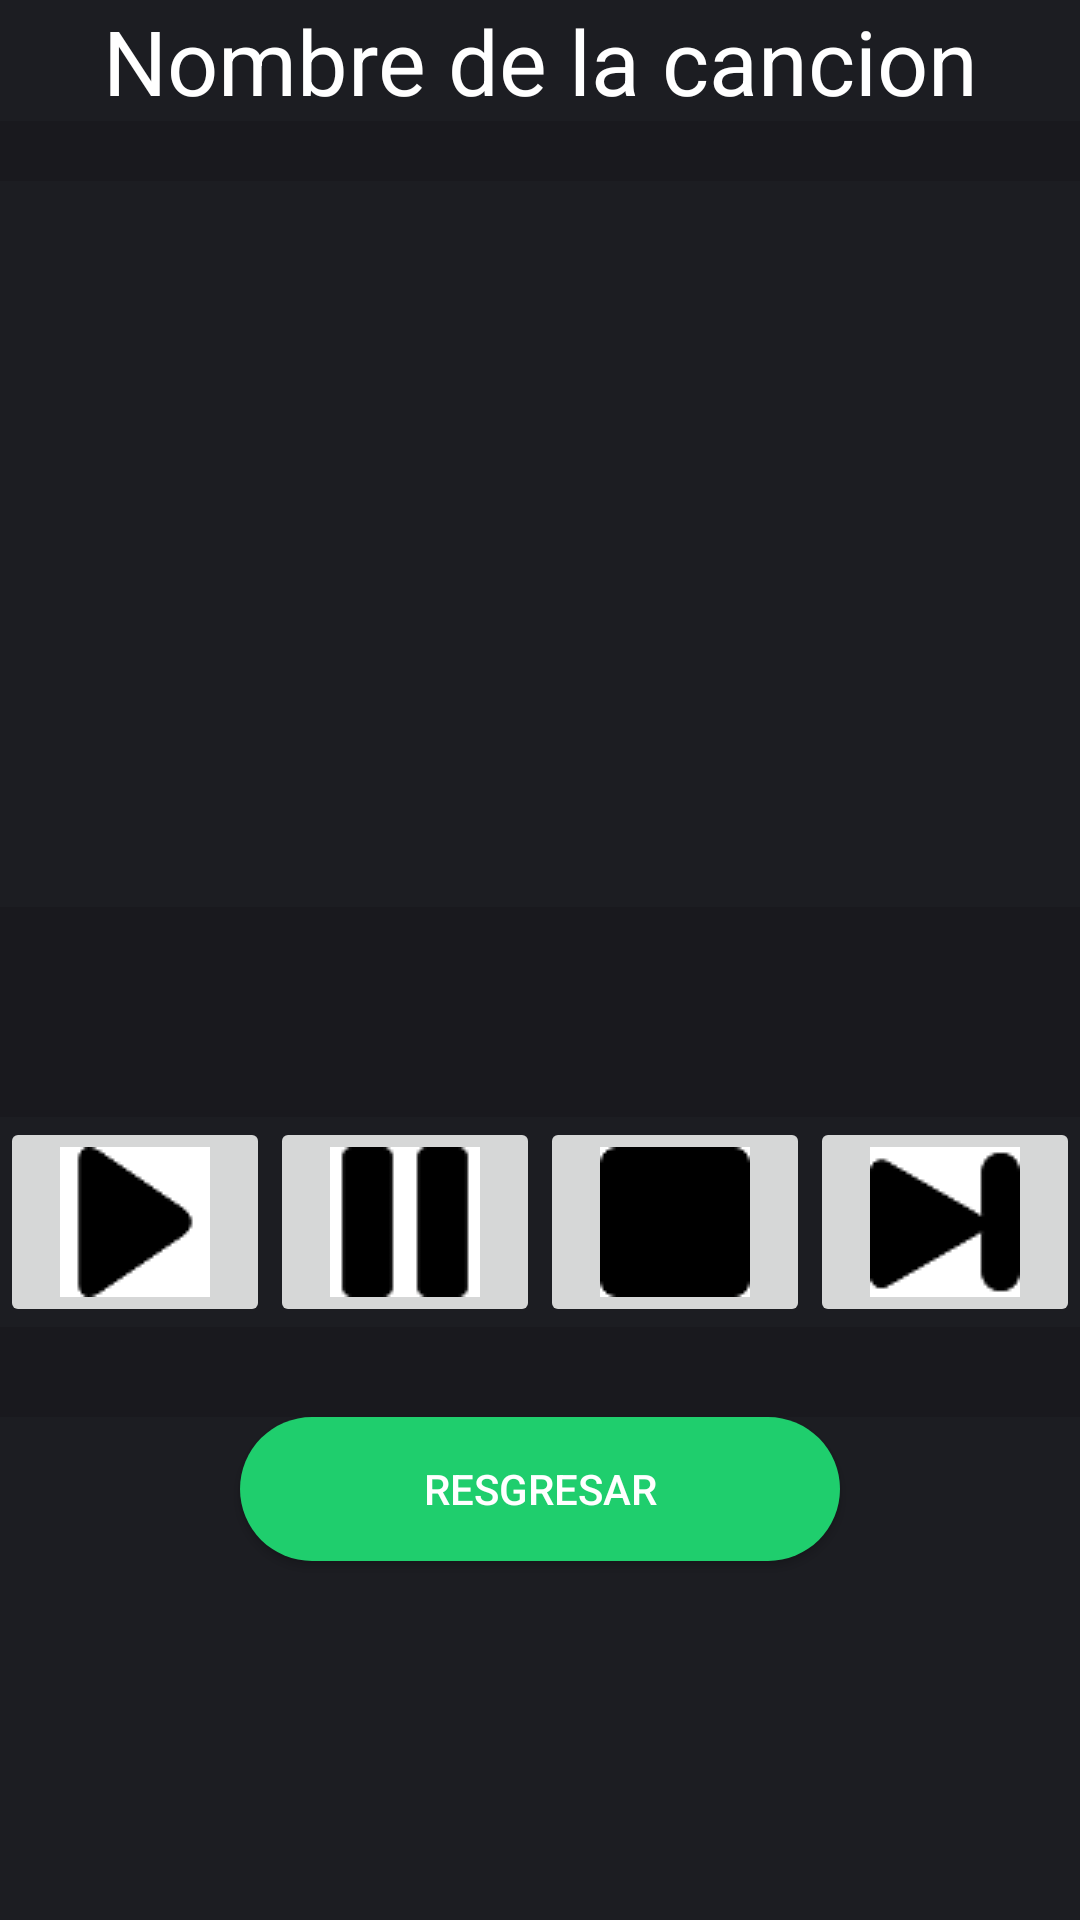

Named icons in this screenshot (1080 x 1920) and their centers, (x,y):
detener: (675,1222)
jugar: (135,1222)
pausa: (405,1222)
proximo: (945,1222)
